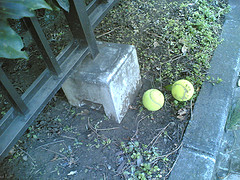tennis ball: (170, 78, 195, 102), (141, 88, 165, 111)
